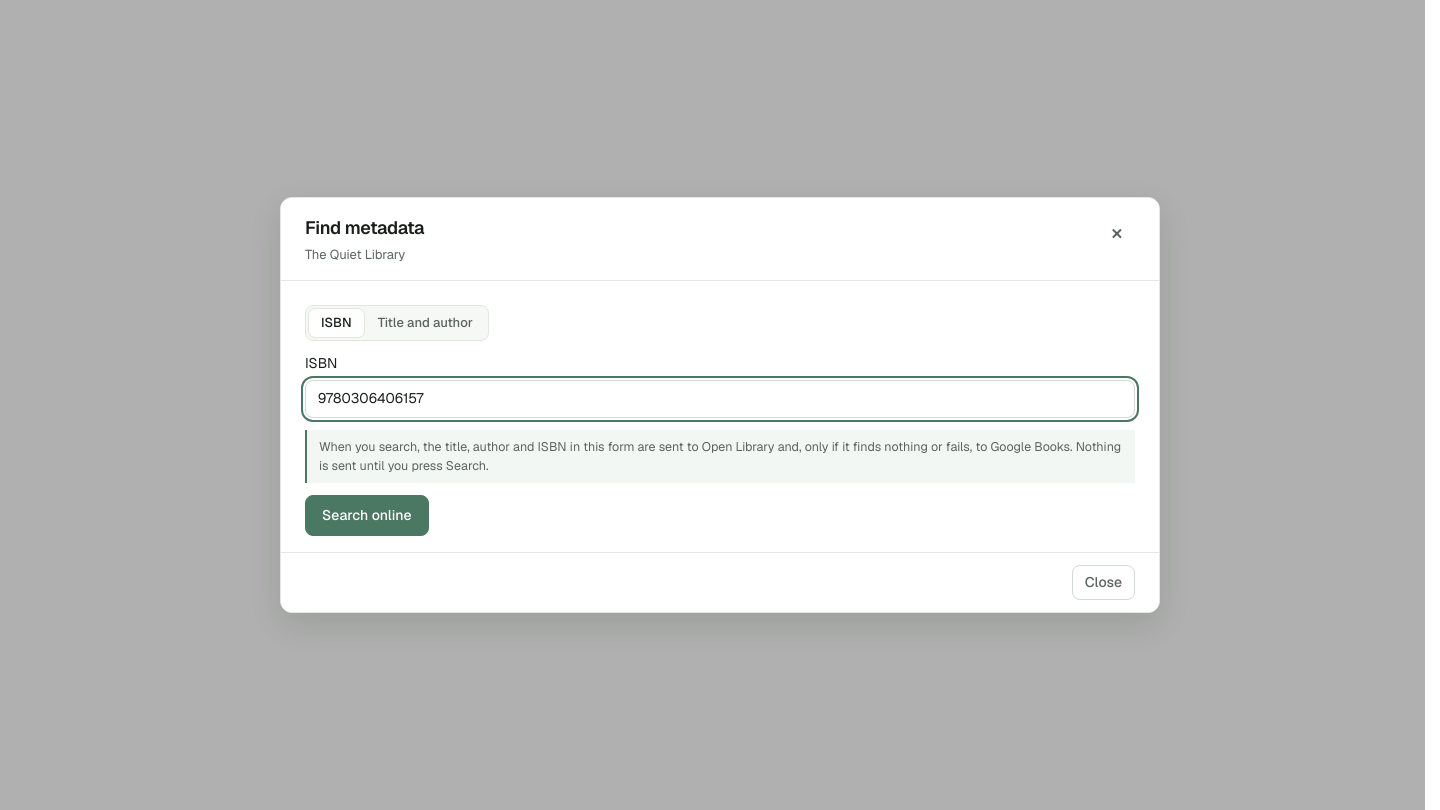
FindMetadataDialog › copies only the checked fields and downloads the cover only when opted in
Check: the field labelled "ISBN" is shown, box [305, 380, 1135, 418]
What coordinates should you click on to do the following:
click the button "Search online"
I would click on:
 (367, 516)
Its box is [305, 495, 428, 536].
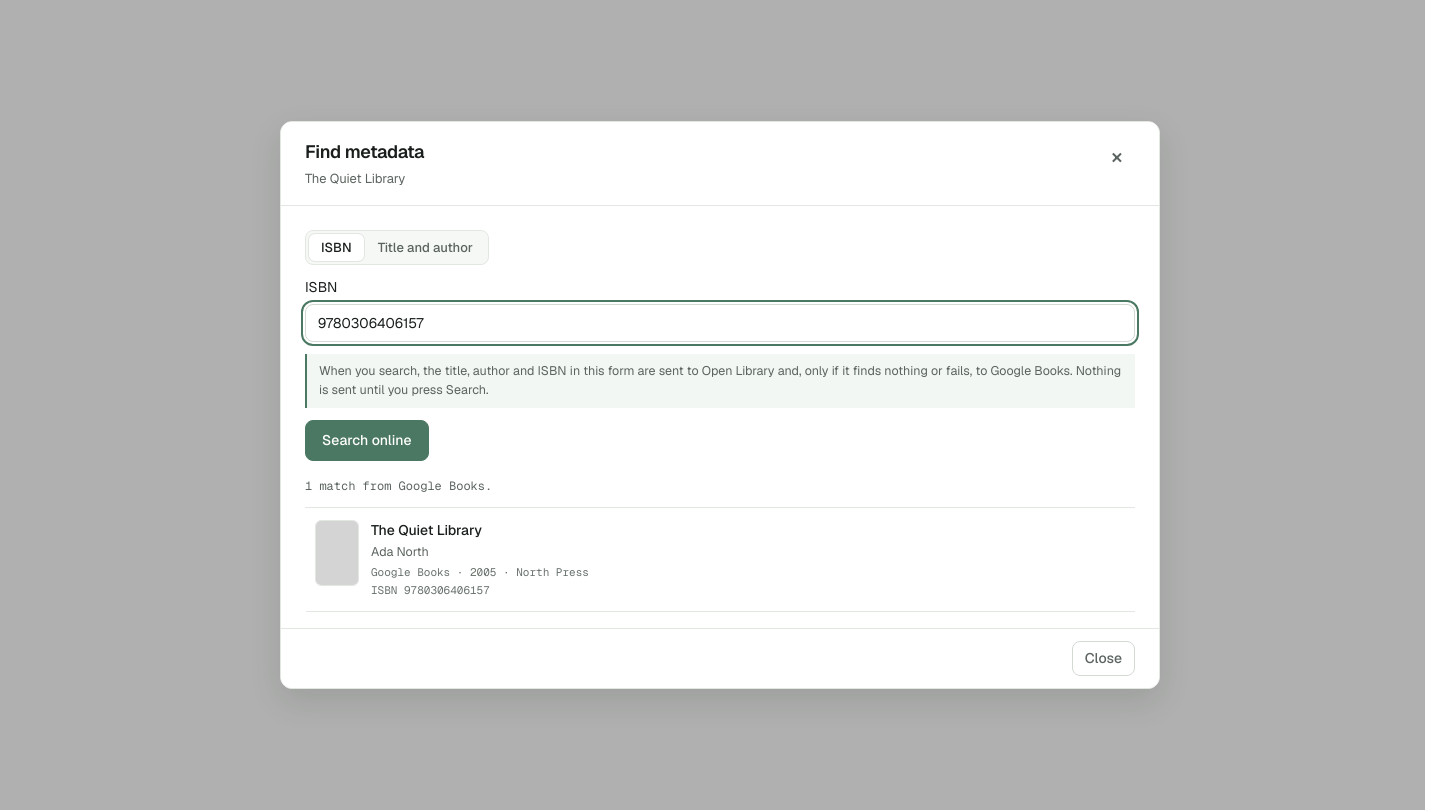
What coordinates should you click on to do the following:
click the button that starts with "The Quiet Library"
I would click on:
 (337, 553)
Its box is [305, 508, 1135, 612].
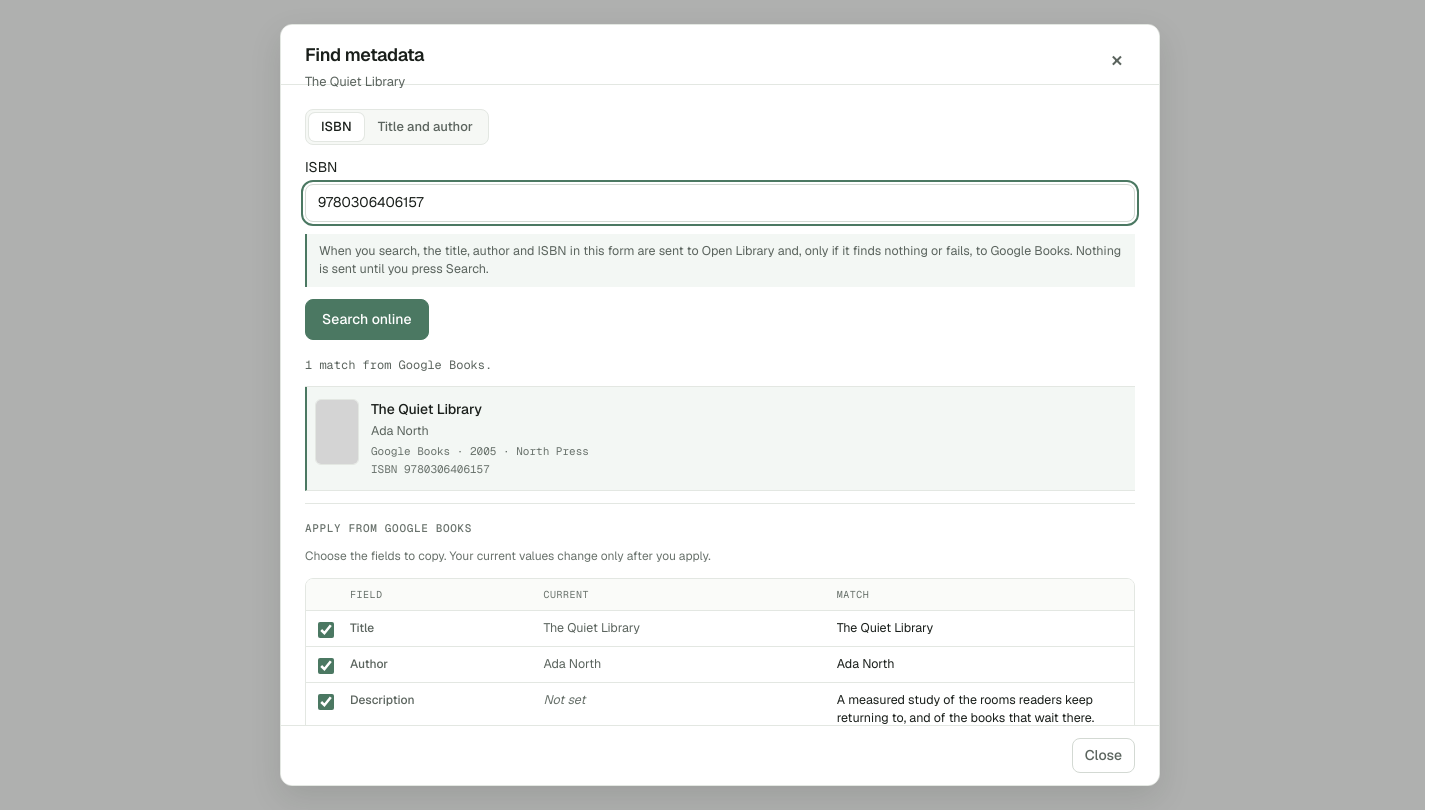
What coordinates should you click on to do the following:
click the checkbox named "Apply Description"
I would click on:
 (326, 702)
Its box is [318, 694, 334, 710].
(page scrolled)
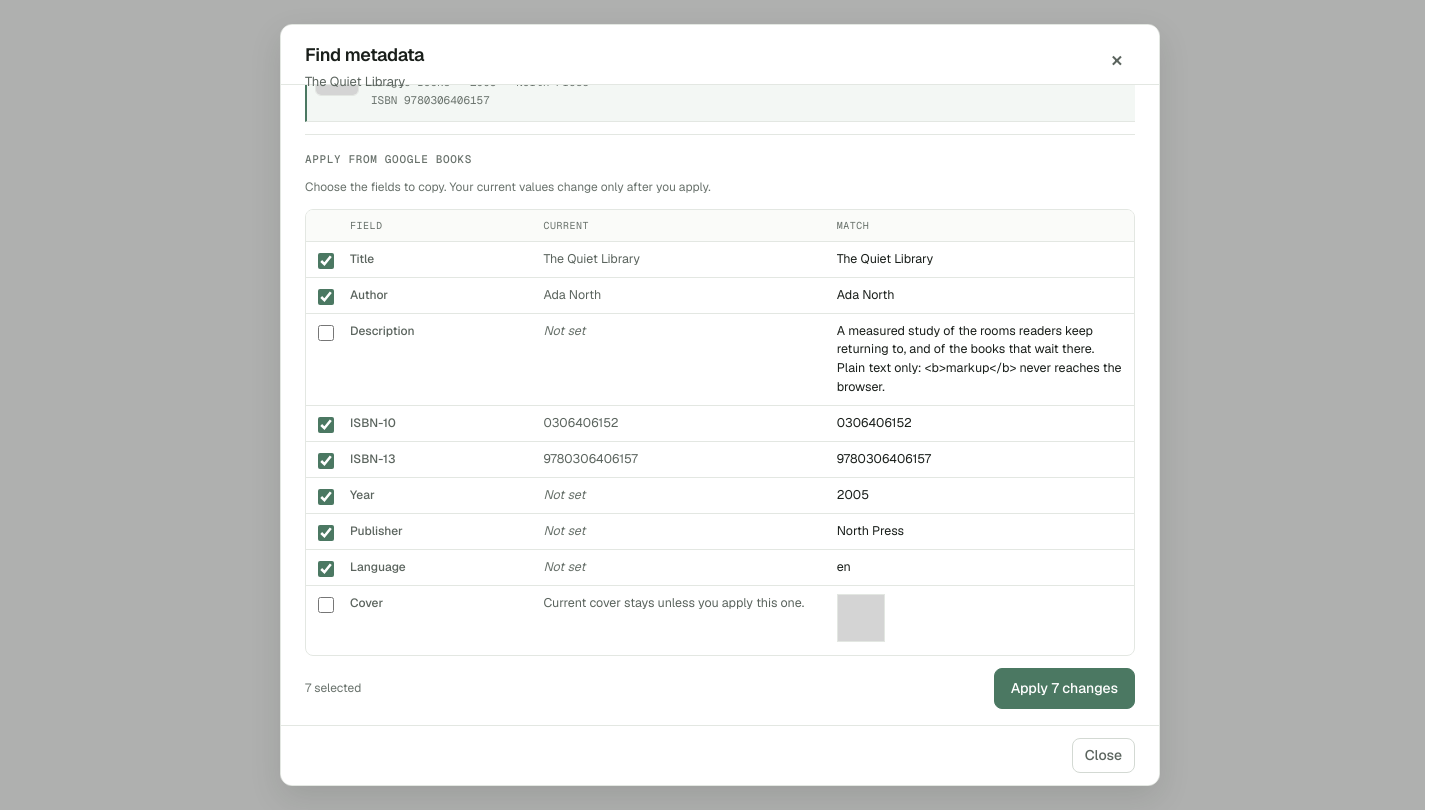
What coordinates should you click on to do the following:
click the checkbox named "Apply cover"
I would click on:
 (326, 605)
Its box is [318, 597, 334, 613].
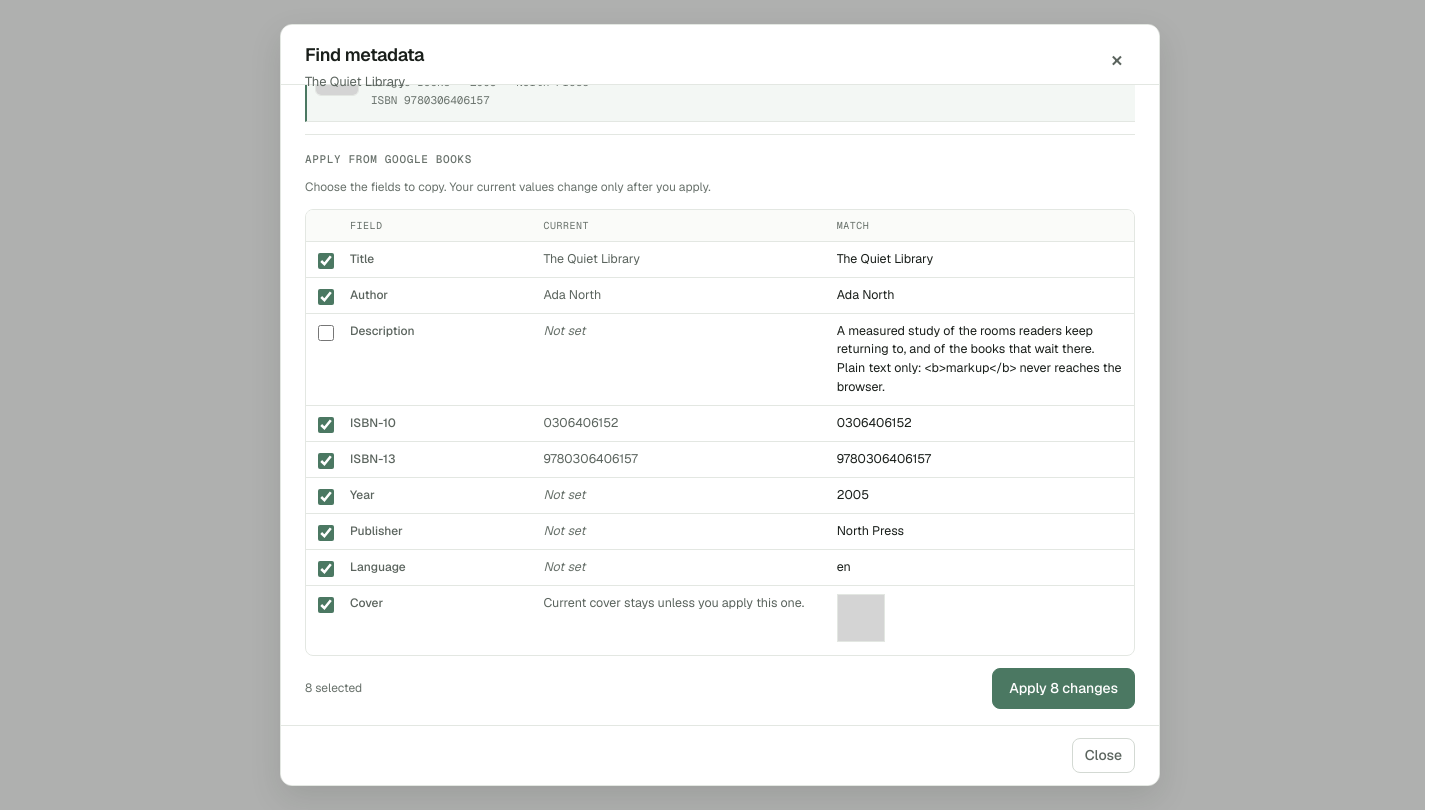
What coordinates should you click on to do the following:
click the button "Apply 8 changes"
I would click on:
 (1064, 689)
Its box is [992, 668, 1135, 709].
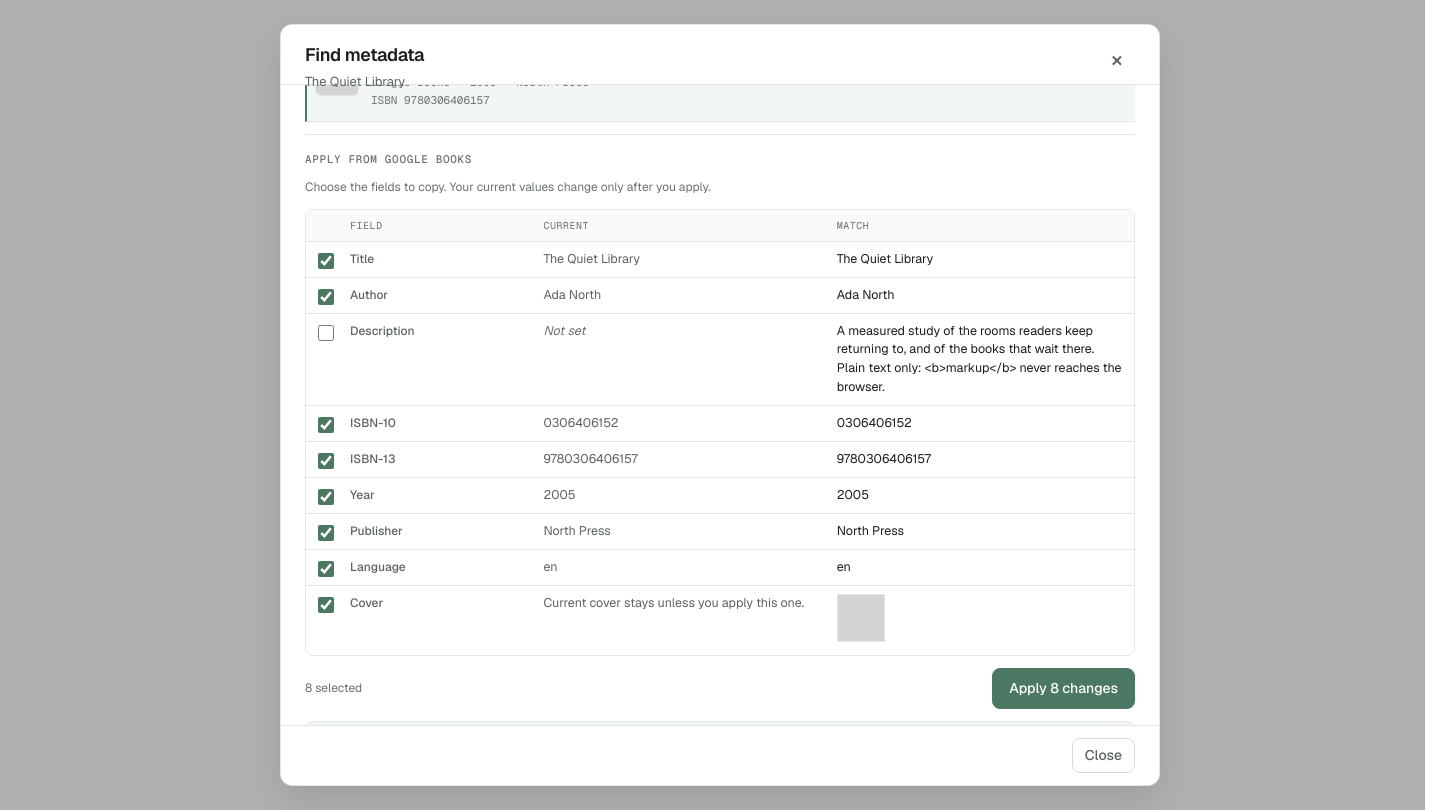
Check: the text "Metadata and cover applied." is shown, box [305, 721, 1135, 767]
